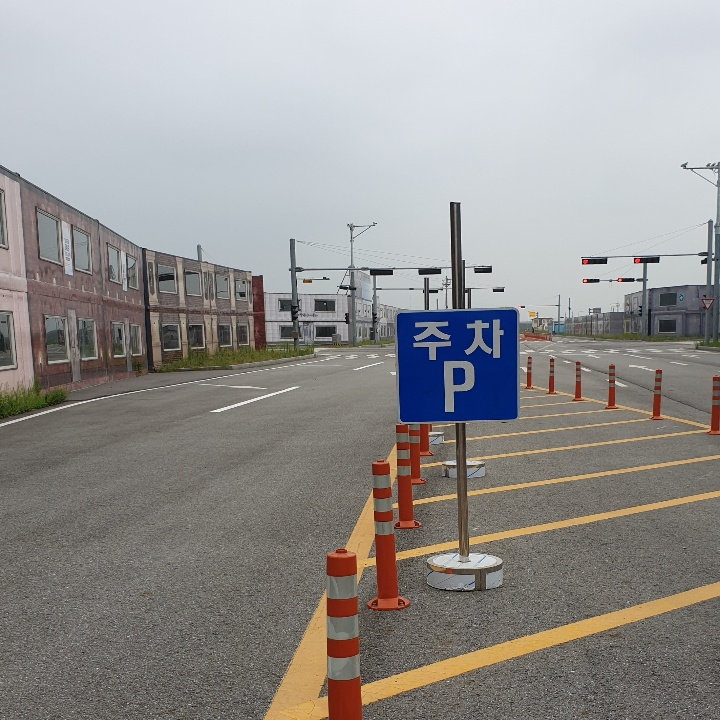parking: (436, 352, 481, 420)
